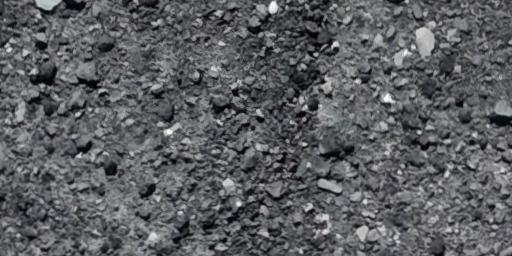skua: (25, 60, 59, 82)
